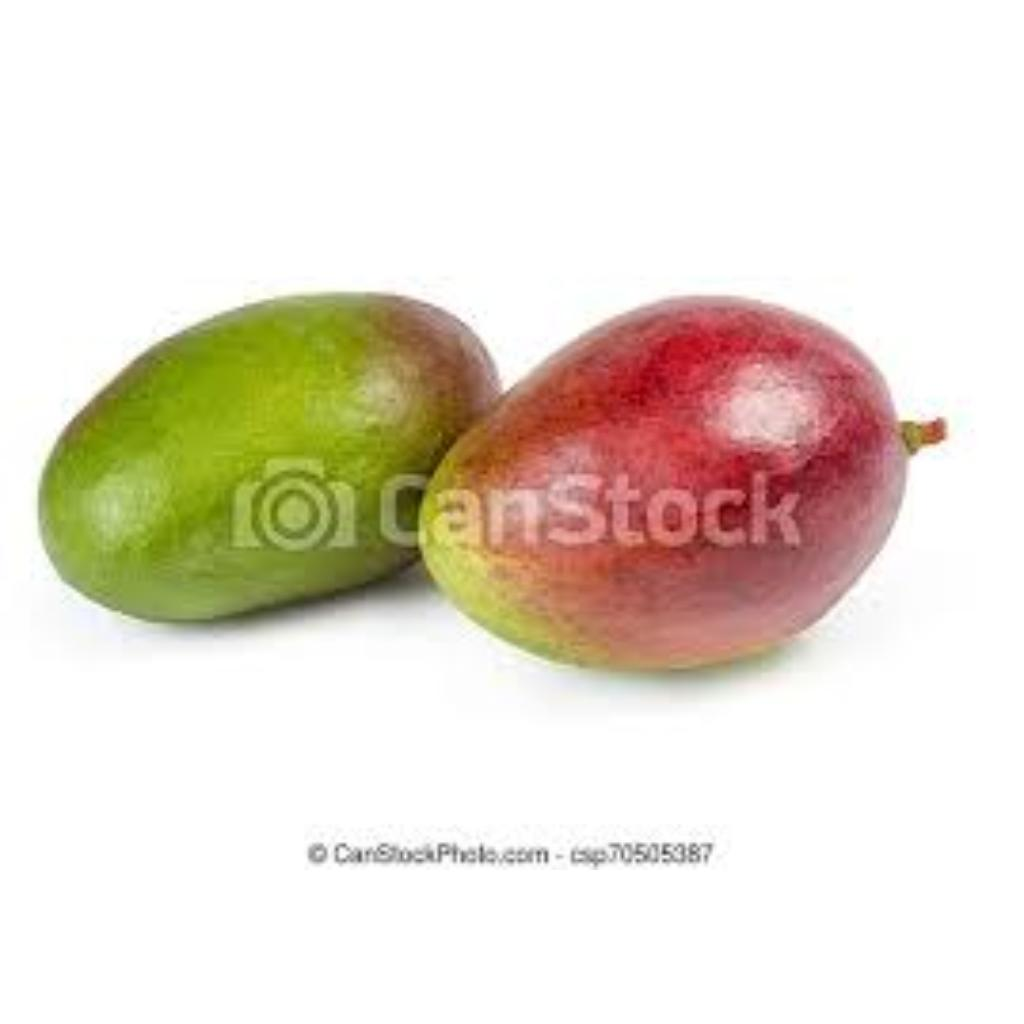mango: (415, 295, 914, 676), (42, 289, 505, 614)
